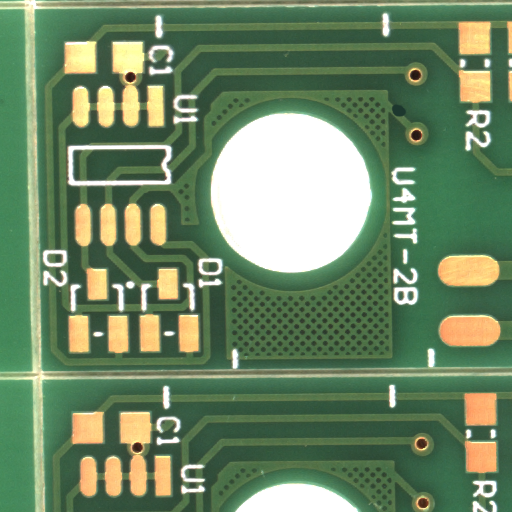Mouse_bite: (399, 110, 414, 123)
